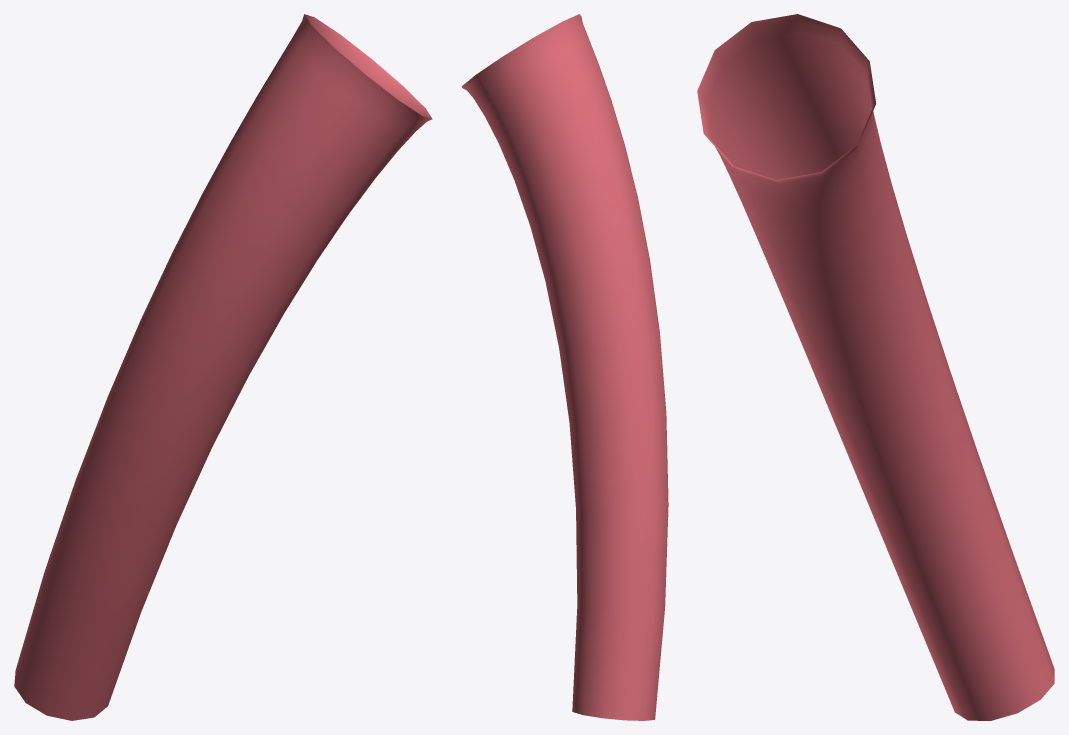
The picture shows the model from 3 angles, left to right: view 1: azimuth 30°, elevation 25°; view 2: azimuth 150°, elevation 25°; view 3: azimuth 270°, elevation 25°; orthographic projection. The views are drawn at different scales.
Parts seen in each view (by area): view 1: ZA_f026789fb292fc90; view 2: ZA_f026789fb292fc90; view 3: ZA_f026789fb292fc90.
Boxes of the visible parts, <box> form: ZA_f026789fb292fc90: <box>14,14,432,720</box>; ZA_f026789fb292fc90: <box>461,14,668,720</box>; ZA_f026789fb292fc90: <box>697,14,1054,720</box>.
Size of the model in its own units: 0.00628 by 0.0141 by 0.00591.
